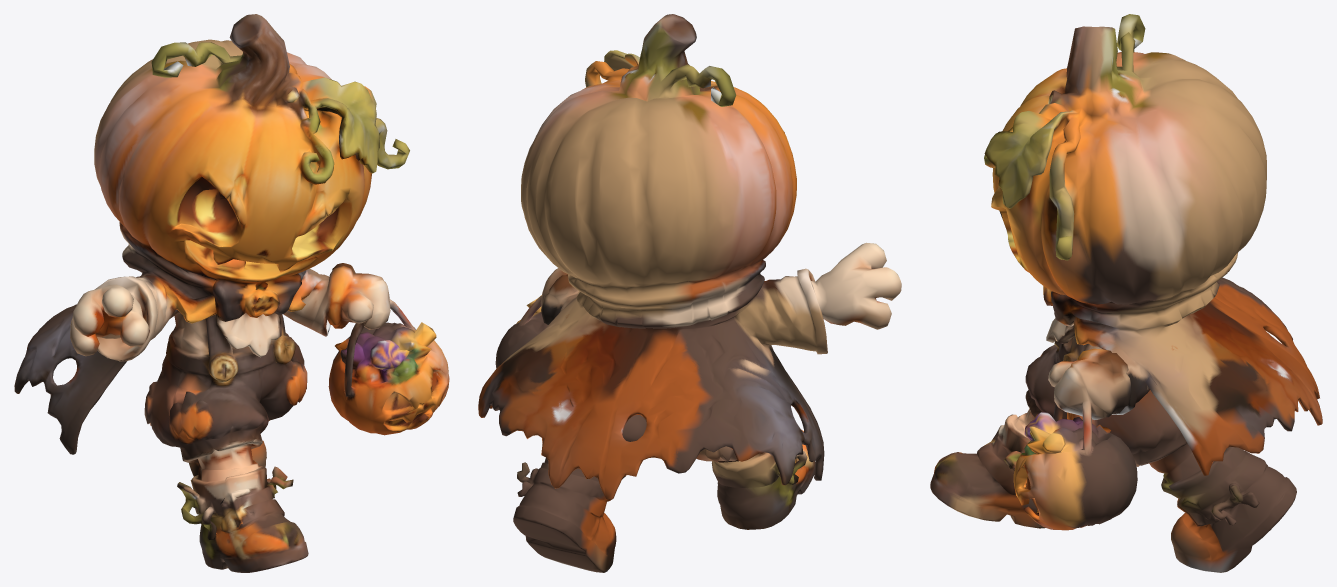
Rendered from original.glb.
3 renders of one model, left to right at view 1: azimuth 30°, elevation 25°; view 2: azimuth 150°, elevation 25°; view 3: azimuth 270°, elevation 25°, orthographic. The views are drawn at different scales.
Parts seen in each view (by area): view 1: Body; view 2: Body; view 3: Body.
Boxes of the visible parts, x1,y1,x2,y2 form: Body: (14,14,449,572); Body: (478,14,901,572); Body: (930,14,1322,572).
Bounding box in the file's own units: 0.7807 × 0.9997 × 0.6804.
1 material, 1 textured.
